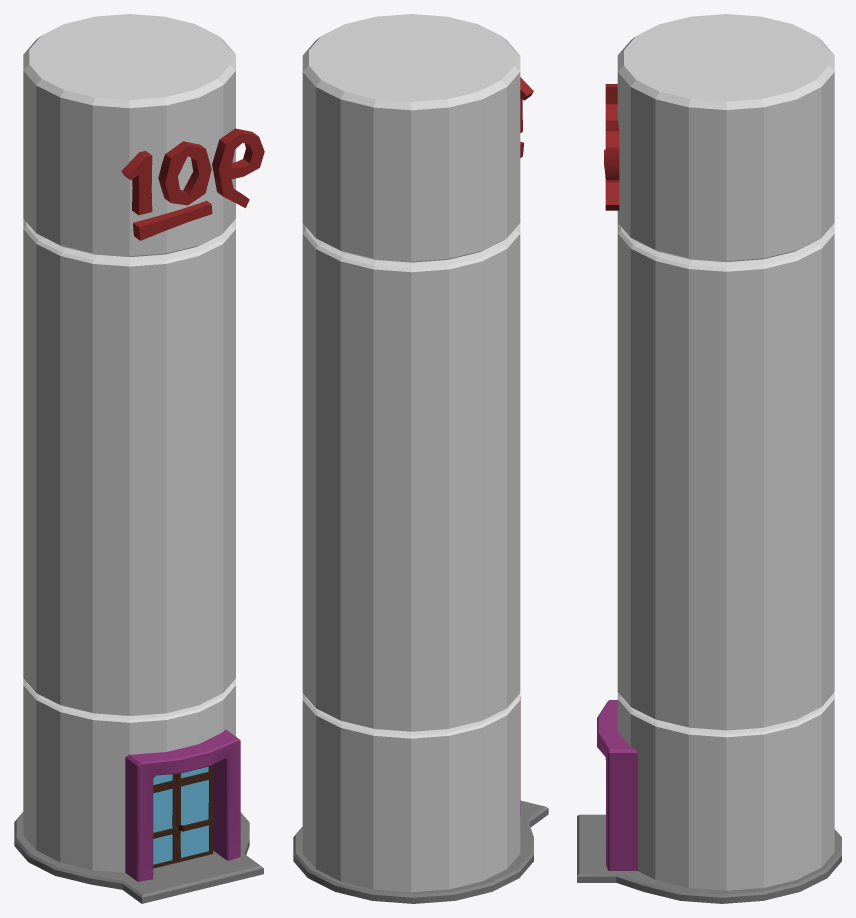
Rendered from SM_building_tall_04.fbx.
3 views of the same model, side by side, from view 1: azimuth 30°, elevation 25°; view 2: azimuth 150°, elevation 25°; view 3: azimuth 270°, elevation 25° (orthographic). The views are drawn at different scales.
Parts seen in each view (by area): view 1: Object32313; view 2: Object32313; view 3: Object32313.
Part boxes in pixels (x1=…): Object32313: x1=14, y1=14, x2=264, y2=903; Object32313: x1=293, y1=14, x2=548, y2=903; Object32313: x1=577, y1=14, x2=841, y2=903.
Bounding box in the file's own units: 221 × 796 × 240.
